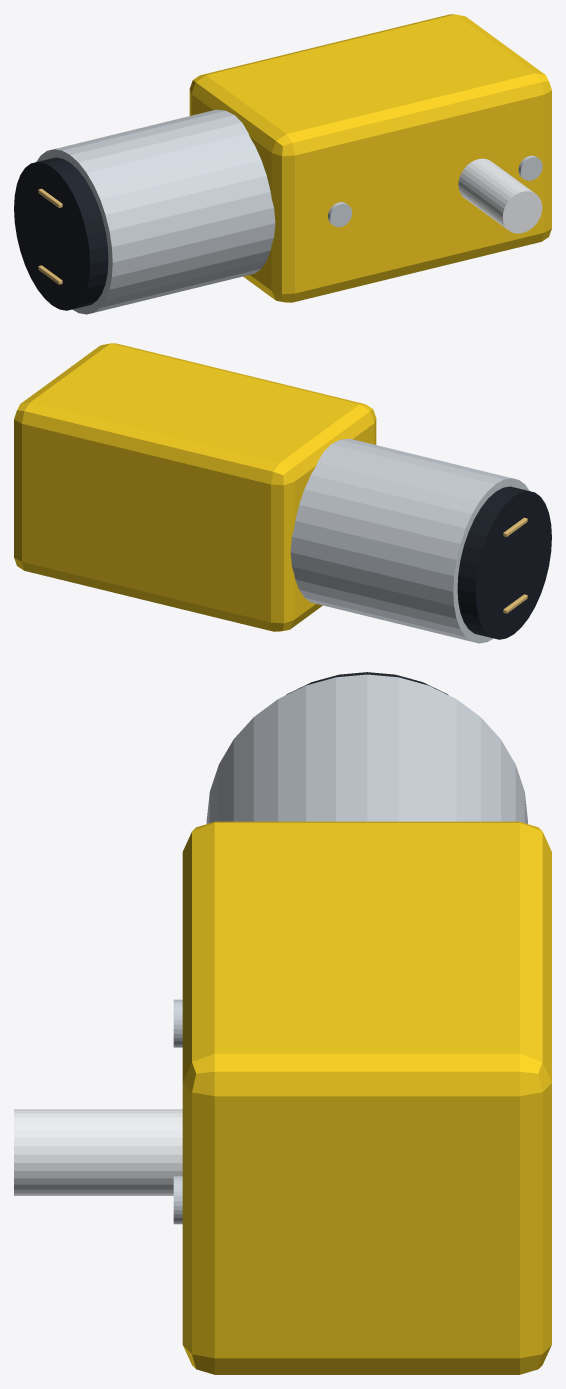
File: geared-motor.glb
The picture shows the model from 3 angles, top to bottom: view 1: azimuth 30°, elevation 25°; view 2: azimuth 150°, elevation 25°; view 3: azimuth 270°, elevation 25°; orthographic projection. The views are drawn at different scales.
Visible parts, largest first — view 1: Static body • yellow, Static body • silver, Static body • black, Static body • white; view 2: Static body • yellow, Static body • silver, Static body • black; view 3: Static body • yellow, Static body • silver, Static body • white.
Boxes of the visible parts, x1,y1,x2,y2 form: Static body • yellow: (189, 14, 551, 302); Static body • silver: (36, 109, 542, 314); Static body • black: (14, 157, 108, 310); Static body • white: (458, 158, 542, 233); Static body • yellow: (14, 343, 376, 631); Static body • silver: (290, 438, 529, 643); Static body • black: (457, 486, 551, 639); Static body • yellow: (182, 821, 551, 1374); Static body • silver: (173, 674, 527, 1224); Static body • white: (14, 1109, 182, 1195).
Size of the model in its own units: 63 by 22 by 33.5.
